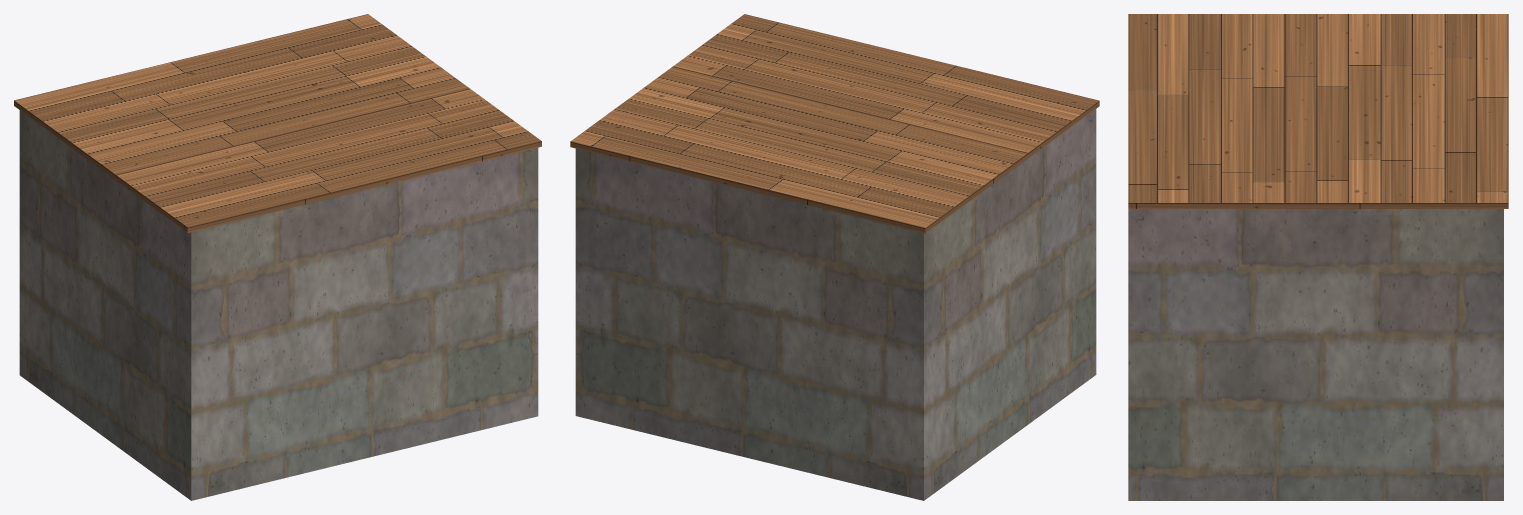
The model's file is floor_wood_g_e0_0_0_30.glb.
3 views of the same model, side by side, from view 1: azimuth 30°, elevation 25°; view 2: azimuth 150°, elevation 25°; view 3: azimuth 270°, elevation 25° (orthographic). The views are drawn at different scales.
Parts seen in each view (by area): view 1: floor_wood_g_e0_0_0_30_plinth, floor_wood_g_e0_0_0_30_floor; view 2: floor_wood_g_e0_0_0_30_plinth, floor_wood_g_e0_0_0_30_floor; view 3: floor_wood_g_e0_0_0_30_plinth, floor_wood_g_e0_0_0_30_floor.
Part boxes in pixels (x1,y1,x2,y2): floor_wood_g_e0_0_0_30_plinth: [19, 110, 538, 500]; floor_wood_g_e0_0_0_30_floor: [14, 14, 541, 232]; floor_wood_g_e0_0_0_30_plinth: [575, 109, 1096, 500]; floor_wood_g_e0_0_0_30_floor: [570, 14, 1099, 233]; floor_wood_g_e0_0_0_30_plinth: [1128, 209, 1503, 500]; floor_wood_g_e0_0_0_30_floor: [1128, 14, 1508, 208].
Size of the model in its own units: 2 by 1.48 by 1.7.
2 materials, 2 textured.
